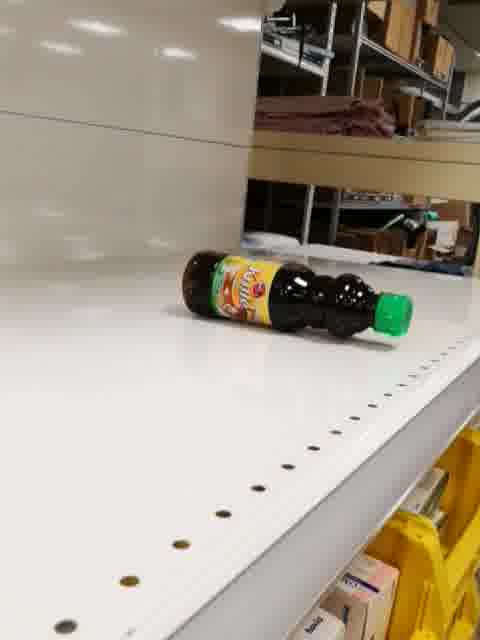cookingoil: (179, 246, 416, 342)
